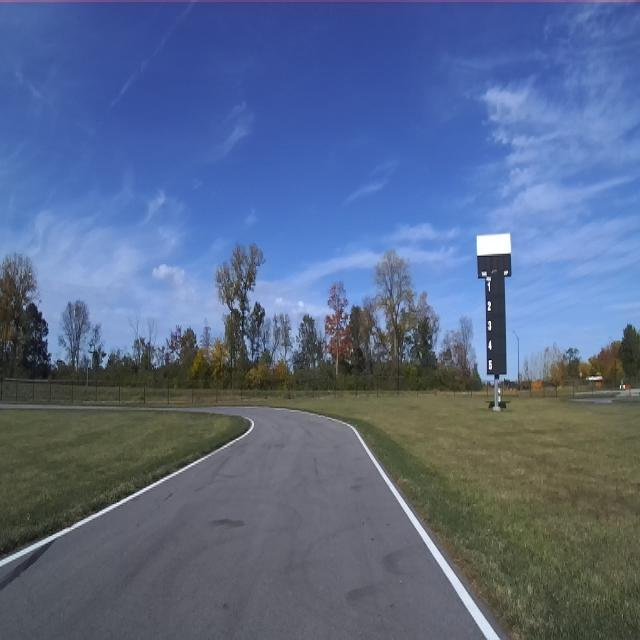white-line: (299, 410, 500, 639), (0, 416, 254, 567)
